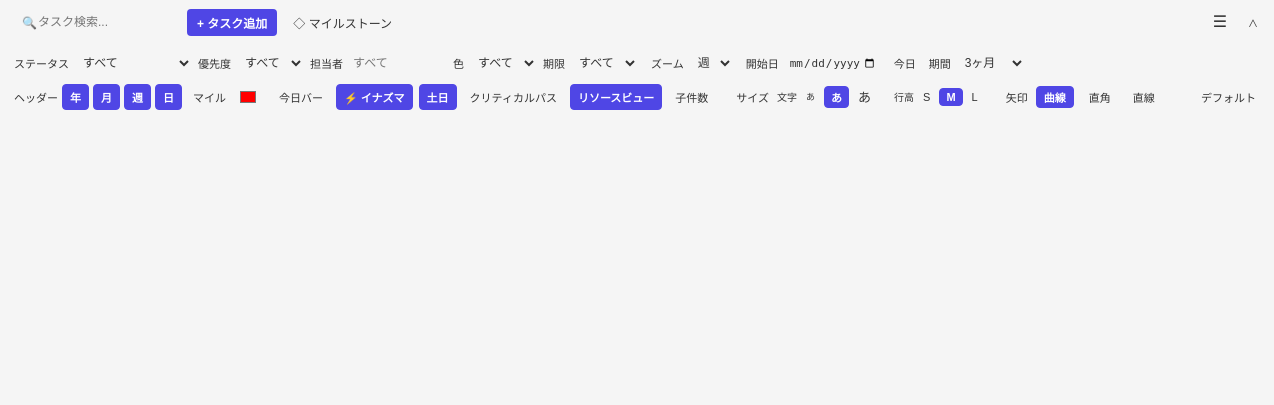
Test case: バージョン表示（ハンバーガーメニュー） › メニューを開くと Frontend 版と Backend 版が表示される
The width and height of the screenshot is (1274, 405).
Click the button titled "メニュー" at (1220, 22), box x1=1204 y1=9 x2=1236 y2=35
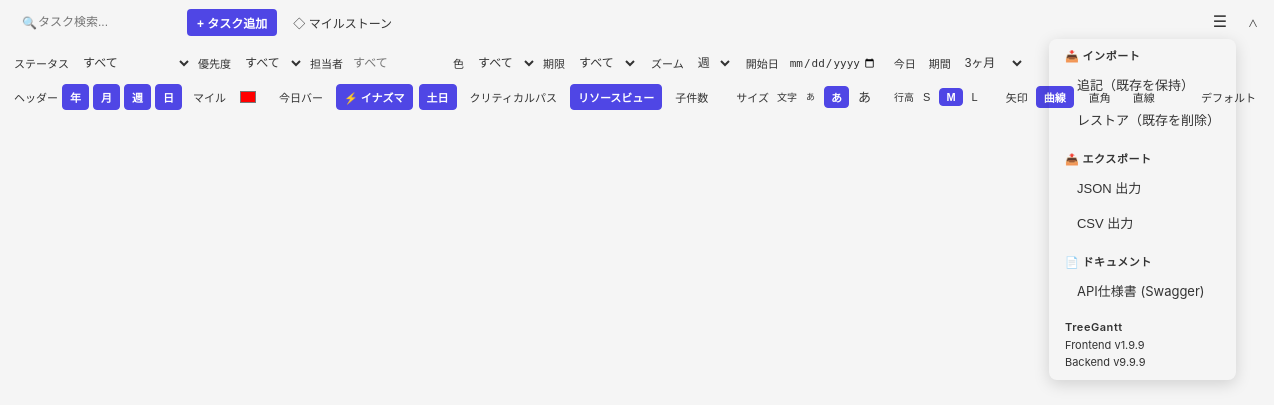
Check: the element with test id "app-version" shows "v9.9.9", box x1=1065 y1=320 x2=1146 y2=369
